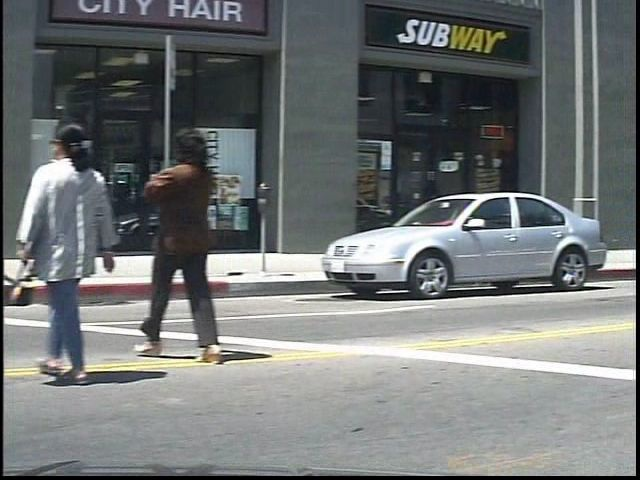person: (33, 116, 138, 387), (143, 120, 241, 363)
